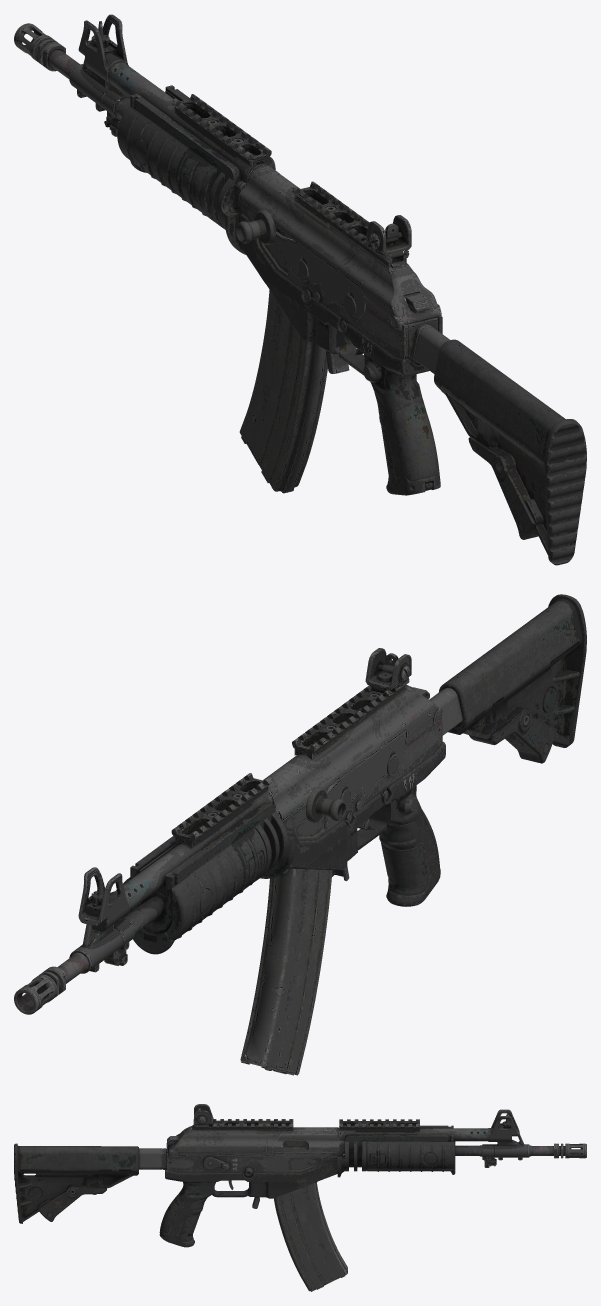
File: galil_r.glb
The picture shows the model from 3 angles, top to bottom: view 1: azimuth 30°, elevation 25°; view 2: azimuth 150°, elevation 25°; view 3: azimuth 270°, elevation 25°; orthographic projection. The views are drawn at different scales.
Parts seen in each view (by area): view 1: v_galil_R; view 2: v_galil_R; view 3: v_galil_R.
Part boxes in pixels (x1,y1,x2,y2): v_galil_R: [14, 14, 586, 565]; v_galil_R: [14, 594, 586, 1075]; v_galil_R: [14, 1104, 586, 1291].
Bounding box in the file's own units: 0.0713 × 0.2747 × 0.7826.
1 material, 1 textured.
